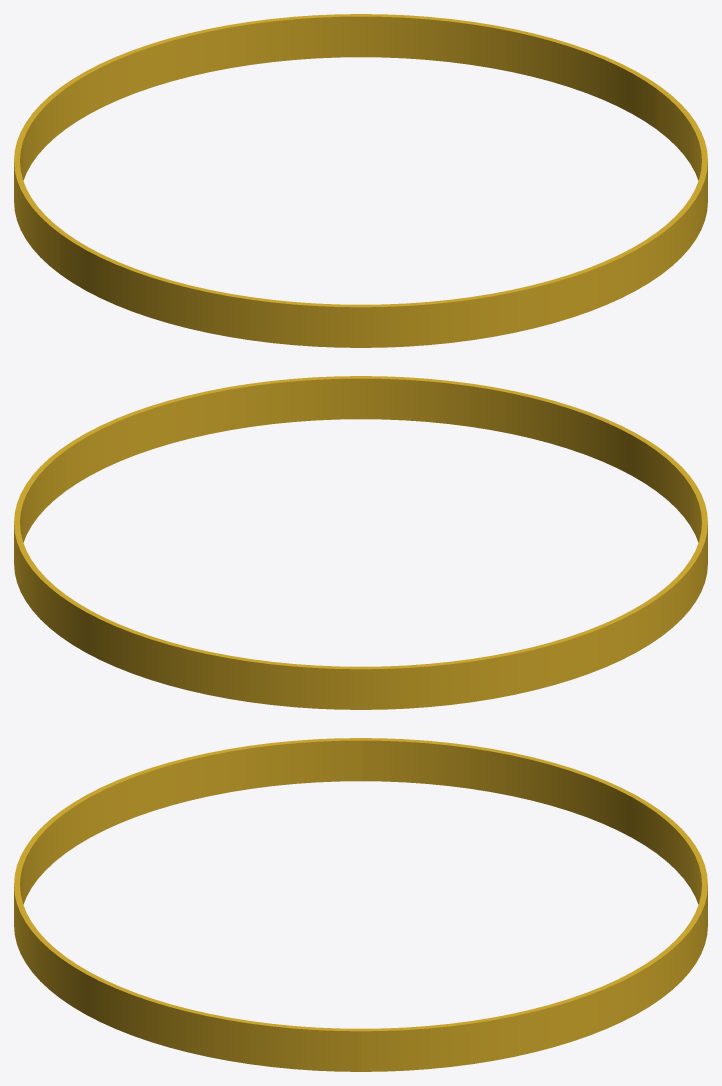
File: alumina_storage_silo_pressure.glb
3 renders of one model, top to bottom at view 1: azimuth 30°, elevation 25°; view 2: azimuth 150°, elevation 25°; view 3: azimuth 270°, elevation 25°, orthographic.
Visible parts, largest first — view 1: pressure__front, pressure__back; view 2: pressure__back, pressure__front; view 3: pressure__back, pressure__front.
Part boxes in pixels (<box>): pressure__front: <box>60,87,707,347</box>; pressure__back: <box>14,14,660,273</box>; pressure__back: <box>14,449,661,709</box>; pressure__front: <box>61,376,707,635</box>; pressure__back: <box>361,738,707,1071</box>; pressure__front: <box>14,738,360,1071</box>.
Size of the model in its own units: 2.32 by 0.15 by 2.32.
